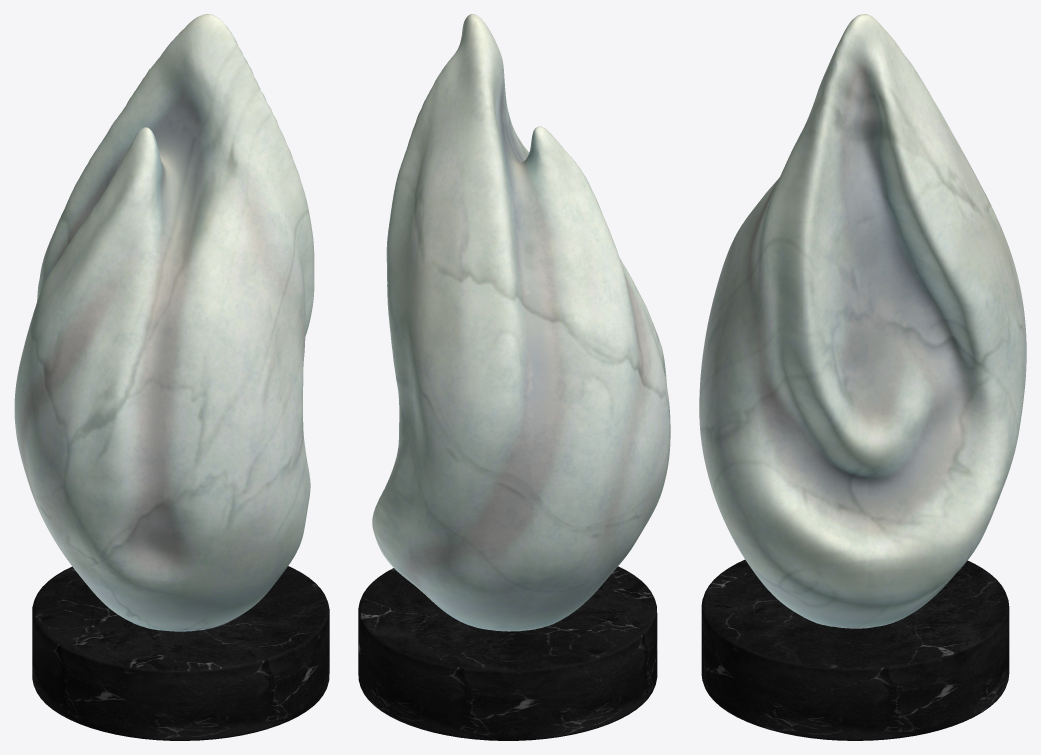
The model's file is statue43352.glb.
The picture shows the model from 3 angles, left to right: view 1: azimuth 30°, elevation 25°; view 2: azimuth 150°, elevation 25°; view 3: azimuth 270°, elevation 25°; orthographic projection. The views are drawn at different scales.
Visible parts, largest first — view 1: statue43352; view 2: statue43352; view 3: statue43352.
Boxes of the visible parts, bbox=[...] form: statue43352: bbox=[14, 14, 329, 740]; statue43352: bbox=[358, 14, 670, 740]; statue43352: bbox=[699, 14, 1026, 740].
Size of the model in its own units: 0.3089 by 0.7094 by 0.3106.
Materials: 2 (2 with a texture image).
